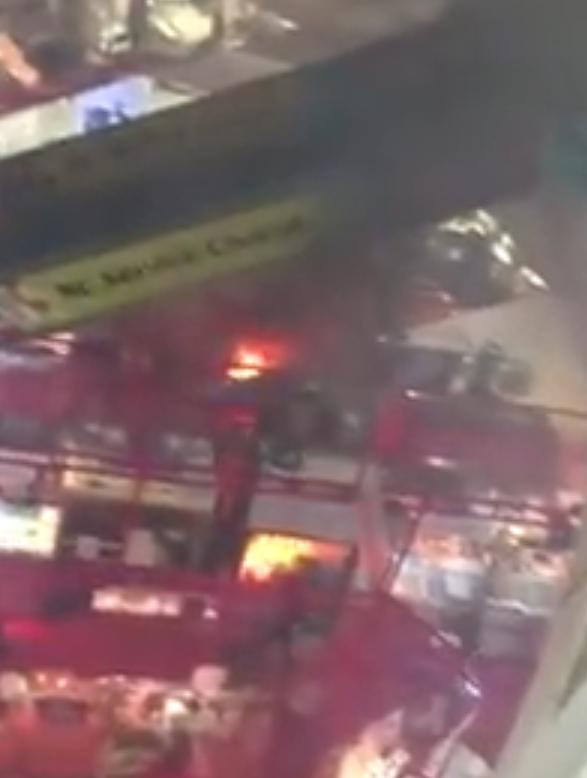fire: (227, 517, 352, 606), (208, 319, 297, 398)
